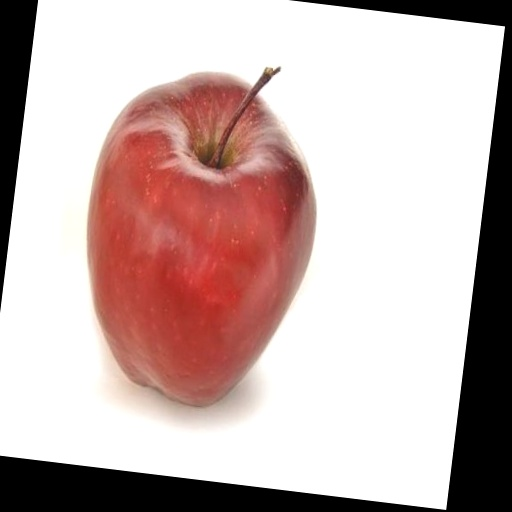fruit: (87, 68, 315, 405)
